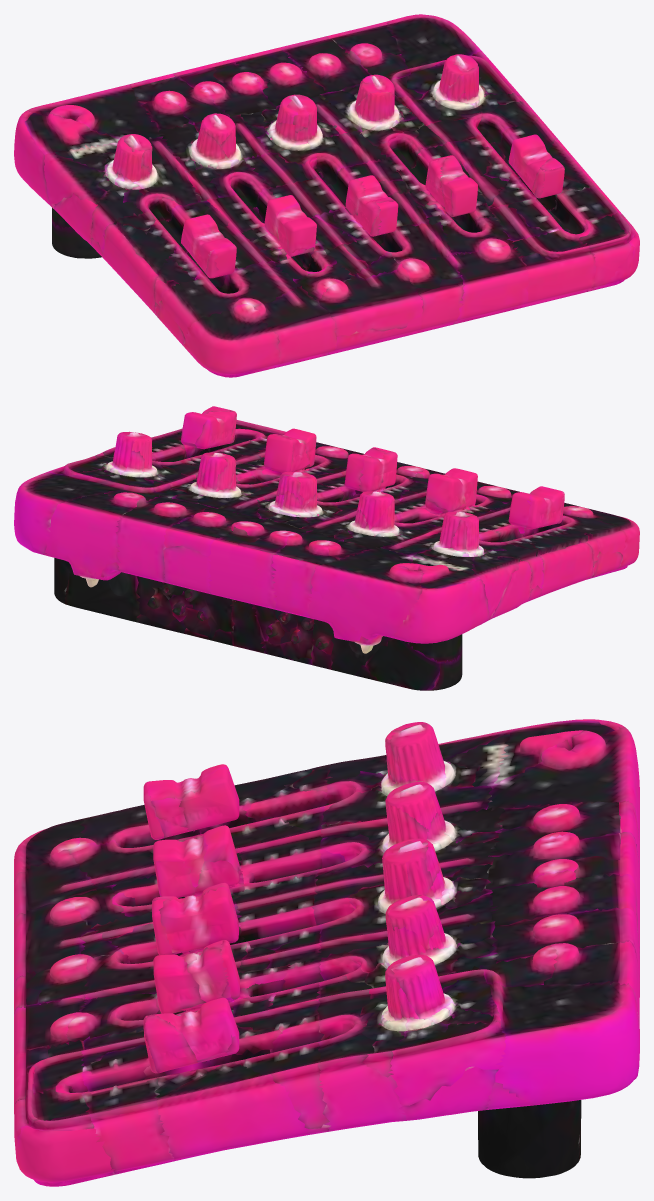
Rendered from poplur_mixer_lite.glb.
3 views of the same model, one above another, from view 1: azimuth 30°, elevation 25°; view 2: azimuth 150°, elevation 25°; view 3: azimuth 270°, elevation 25° (orthographic). The views are drawn at different scales.
Size of the model in its own units: 1.9 by 0.5702 by 1.6.
1 material, 1 textured.
